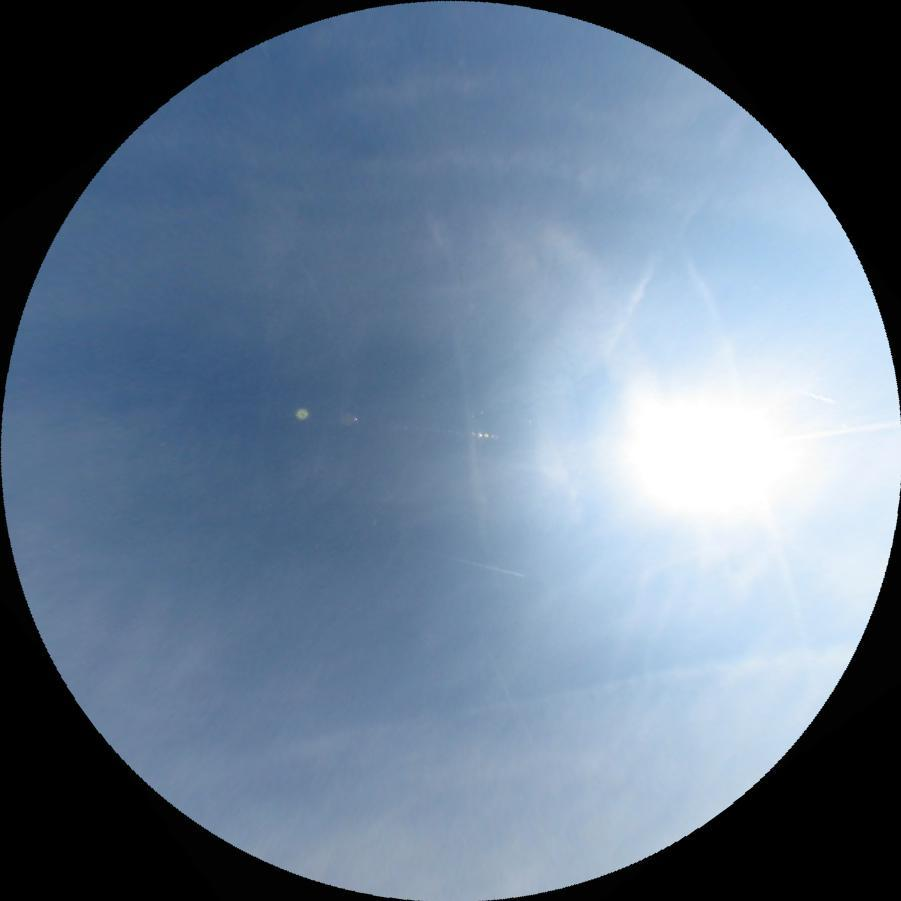contrail veryold: (683, 253, 819, 645)
contrail young: (439, 555, 523, 576), (798, 391, 834, 404)
parasite: (779, 419, 901, 442)
sun: (617, 390, 794, 527)
